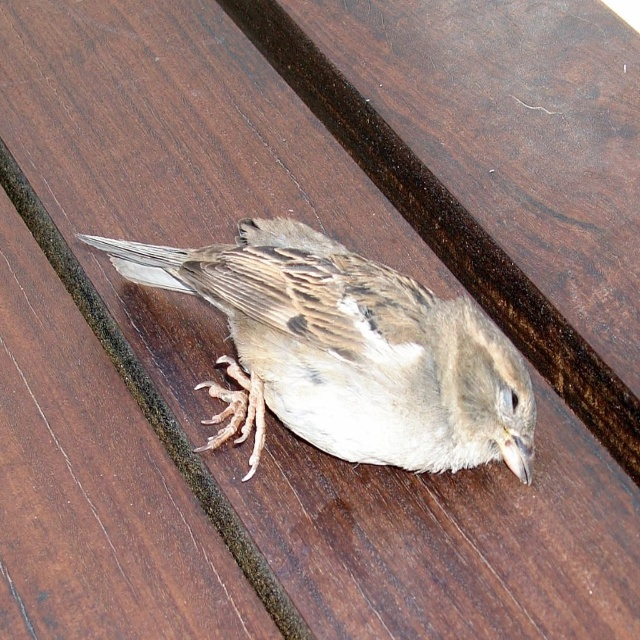Sparrow: (71, 214, 539, 483)
